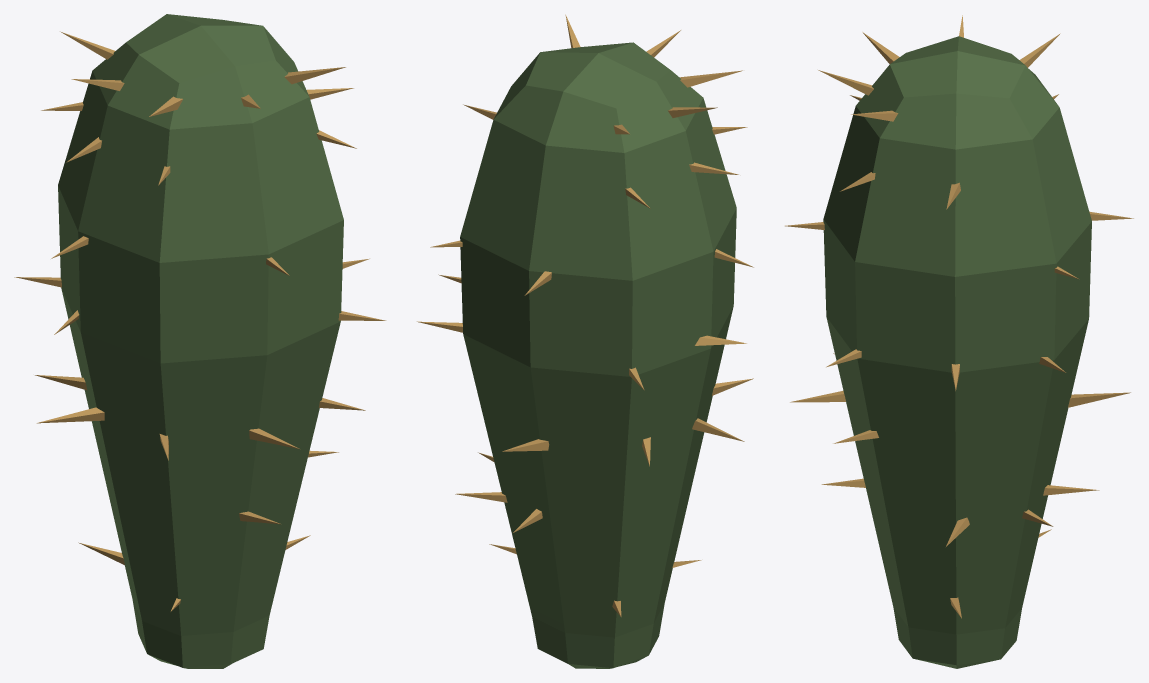
The model's file is cactus_3.glb.
3 views of the same model, side by side, from view 1: azimuth 30°, elevation 25°; view 2: azimuth 150°, elevation 25°; view 3: azimuth 270°, elevation 25° (orthographic). The views are drawn at different scales.
Visible parts, largest first — view 1: Cactus_3; view 2: Cactus_3; view 3: Cactus_3.
Part boxes in pixels (left/top/right/bottom): Cactus_3: left=14, top=14, right=386, bottom=668; Cactus_3: left=417, top=14, right=753, bottom=668; Cactus_3: left=785, top=15, right=1133, bottom=668.
Bounding box in the file's own units: 0.3937 × 0.7217 × 0.382.
